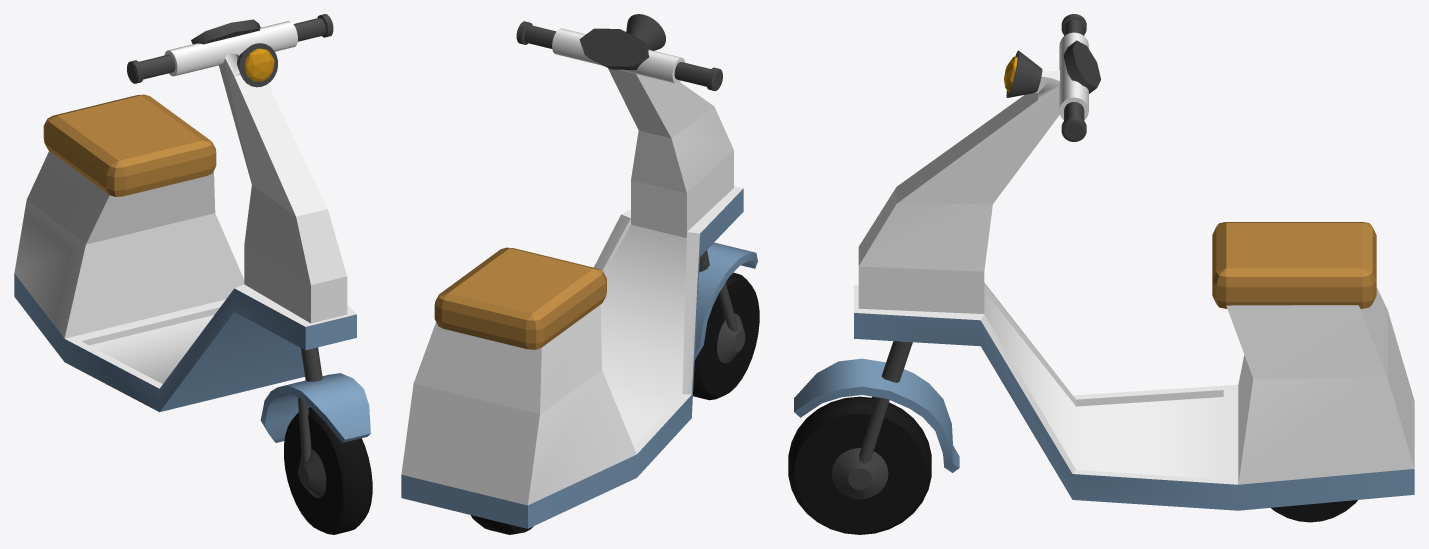
File: 7956c687-8fc7-478f-8baa-3e2eea9f5a0a.glb
3 views of the same model, side by side, from view 1: azimuth 30°, elevation 25°; view 2: azimuth 150°, elevation 25°; view 3: azimuth 270°, elevation 25° (orthographic). The views are drawn at different scales.
Visible parts, largest first — view 1: Box001; view 2: Box001; view 3: Box001.
Boxes of the visible parts, box(x1,y1,x2,y2) form: Box001: box(14, 14, 372, 534); Box001: box(401, 14, 759, 534); Box001: box(788, 14, 1414, 534).
Bounding box in the file's own units: 17.21 × 36.31 × 42.75.
